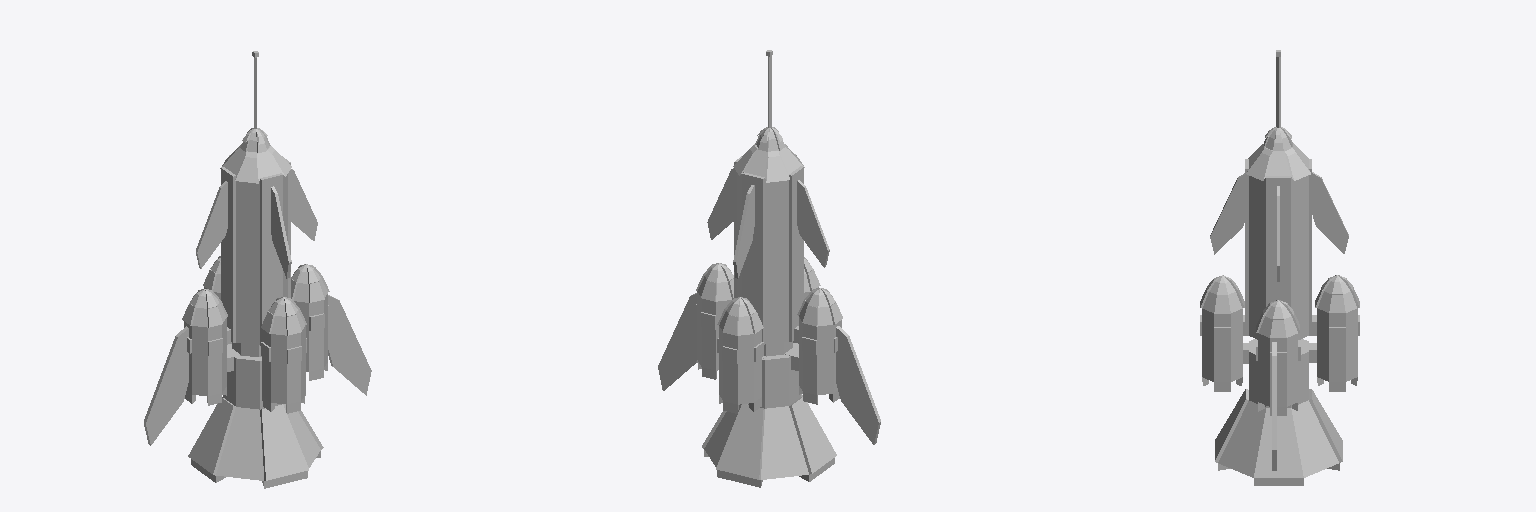
The model's file is rocket_t10_new.obj.
The picture shows the model from 3 angles: view 1: azimuth 30°, elevation 25°; view 2: azimuth 150°, elevation 25°; view 3: azimuth 270°, elevation 25°; orthographic projection.
Visible parts, largest first — view 1: MainNozzle, BodyRocket, SideEngine1, SideEngine4, SideEngine3, BigSideWing2, BigSideWing1, NoseRocketMiddle, SideWing3, SideWing1, SideWing2, NoseRocket; view 2: MainNozzle, BodyRocket, SideEngine2, SideEngine4, SideEngine3, BigSideWing2, BigSideWing1, NoseRocketMiddle, SideWing3, SideWing4, SideWing1, NoseRocket; view 3: MainNozzle, BodyRocket, SideEngine2, SideEngine1, SideEngine3, NoseRocketMiddle, SideWing4, SideWing2, BigSideWing1, NoseRocket.
Part boxes in pixels (x1,y1,x2,y2): MainNozzle: (188,344,323,488); BodyRocket: (221,155,290,345); SideEngine1: (260,297,306,413); SideEngine4: (182,289,240,405); SideEngine3: (291,264,329,380); BigSideWing2: (144,326,188,445); BigSideWing1: (328,295,371,395); NoseRocketMiddle: (220,144,291,183); SideWing3: (196,181,227,268); SideWing1: (291,169,317,240); SideWing2: (271,186,291,278); NoseRocket: (240,128,270,152); MainNozzle: (702,343,836,487); BodyRocket: (734,154,803,344); SideEngine2: (717,297,765,413); SideEngine4: (785,288,842,404); SideEngine3: (696,263,733,379); BigSideWing2: (836,326,880,444); BigSideWing1: (658,293,696,390); NoseRocketMiddle: (733,144,804,182); SideWing3: (797,180,829,267); SideWing4: (733,185,754,278); SideWing1: (707,168,733,239); NoseRocket: (755,127,784,151); MainNozzle: (1215,339,1342,485); BodyRocket: (1245,159,1311,339); SideEngine2: (1301,275,1359,391); SideEngine1: (1200,275,1255,391); SideEngine3: (1256,300,1300,415); NoseRocketMiddle: (1246,143,1310,180); SideWing4: (1312,172,1348,253); SideWing2: (1210,173,1244,254); BigSideWing1: (1272,342,1276,470); NoseRocket: (1264,127,1292,150).
Bounding box in the file's own units: 14.44 × 25.25 × 8.91.